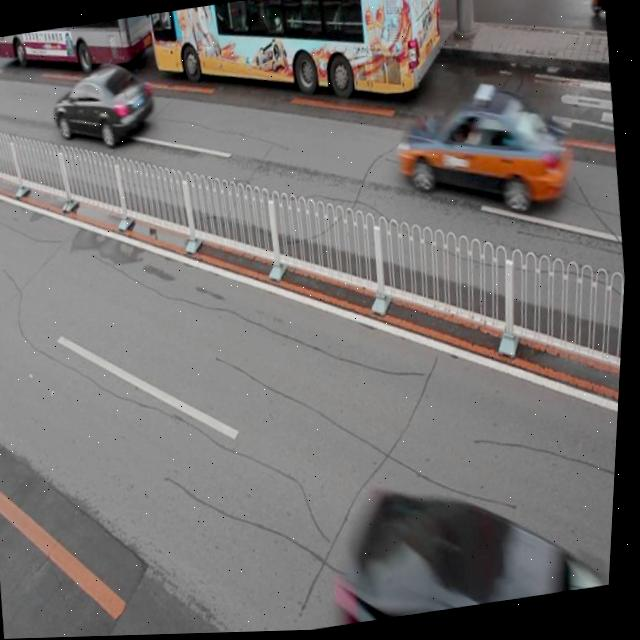car: (339, 459, 621, 627), (391, 77, 579, 229), (47, 59, 159, 154)
van: (141, 0, 448, 136), (0, 14, 155, 87)
